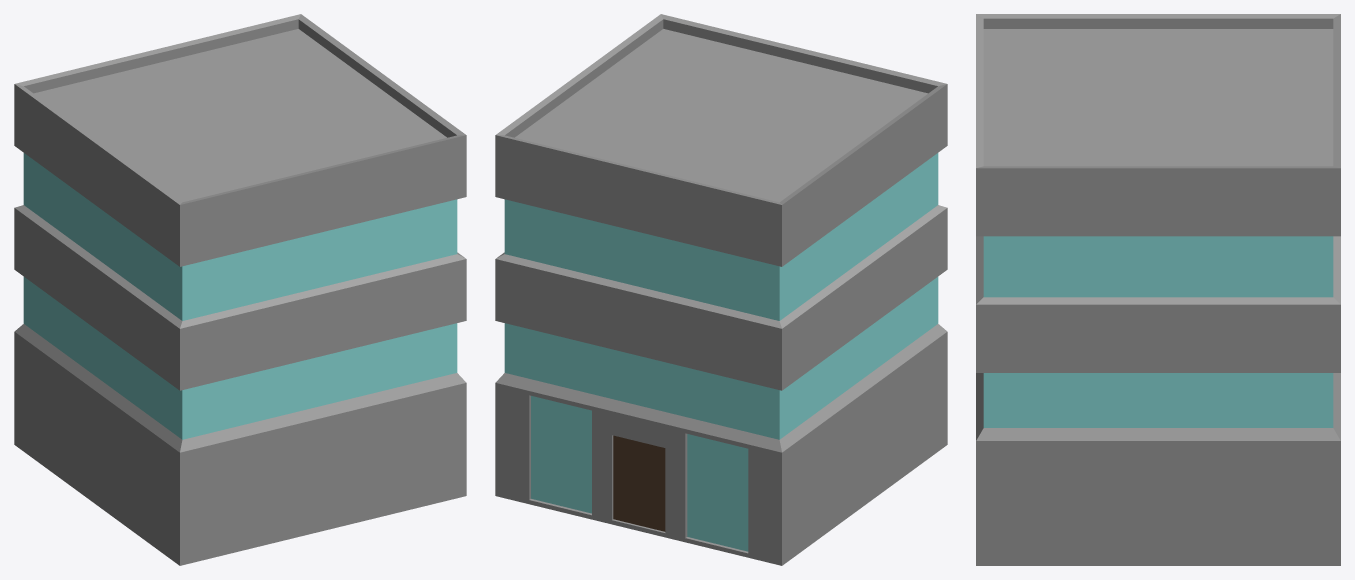
Rendered from OfficeBuilding1.fbx.
3 renders of one model, left to right at view 1: azimuth 30°, elevation 25°; view 2: azimuth 150°, elevation 25°; view 3: azimuth 270°, elevation 25°, orthographic. The views are drawn at different scales.
Visible parts, largest first — view 1: building2; view 2: building2; view 3: building2.
Part boxes in pixels (left/top/right/bottom): building2: left=14, top=14, right=466, bottom=565; building2: left=495, top=14, right=947, bottom=565; building2: left=976, top=14, right=1340, bottom=565.
Size of the model in its own units: 1179 by 1419 by 1179.
